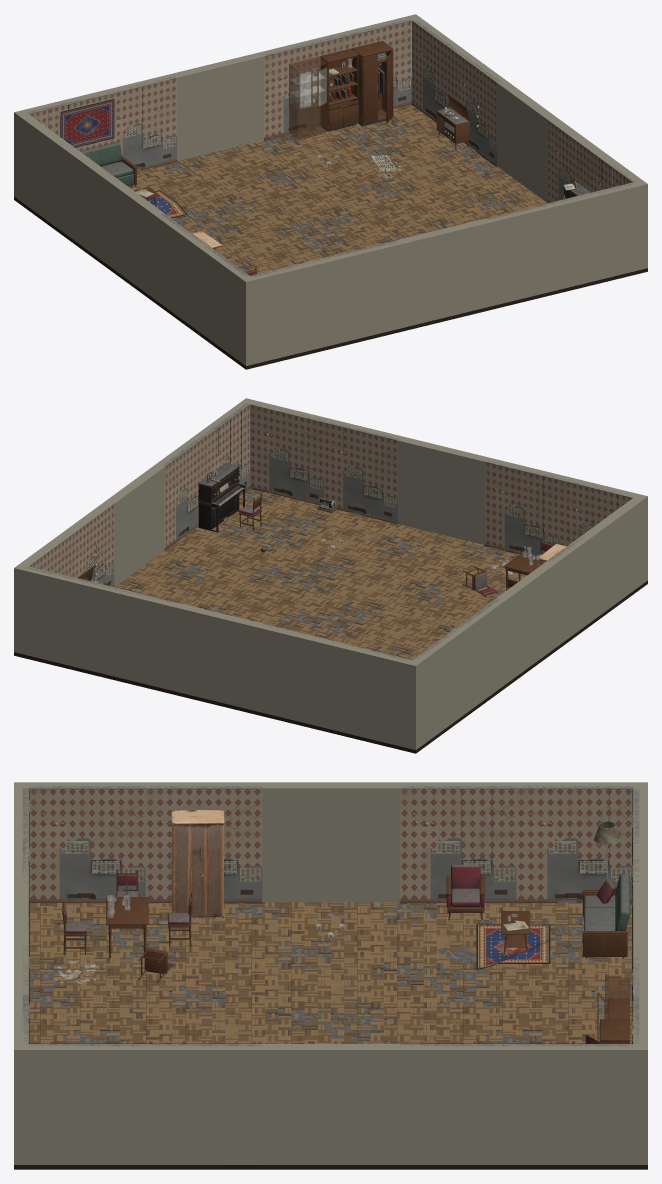
Rendered from room_living_room_decorated_v2.glb.
3 views of the same model, one above another, from view 1: azimuth 30°, elevation 25°; view 2: azimuth 150°, elevation 25°; view 3: azimuth 270°, elevation 25° (orthographic). The views are drawn at different scales.
Parts seen in each view (by area): view 1: Wall_S_A, Wall_S_B, Wall_W_B, Wall_W_A, Plug_S, Plug_N, NoCol_Wallpaper_N1, NoCol_Wallpaper_N2, Plug_W, Plug_E, NoCol_Wallpaper_E3, NoCol_Wallpaper_E2 (+40 smaller); view 2: Wall_N_A, Wall_N_B, Wall_W_A, Wall_W_B, Plug_N, Plug_S, NoCol_Wallpaper_S2, NoCol_Wallpaper_S3, NoCol_Wallpaper_S1, Plug_W, Plug_E, NoCol_Wallpaper_E1 (+35 smaller); view 3: Wall_E_B, Wall_E_A, Plug_W, Plug_E, NoCol_Wallpaper_W0, NoCol_Wallpaper_W2, NoCol_Wallpaper_W3, NoCol_Wallpaper_W1, HideSpot_Wardrobe_1, NoCol_FloorTile_24, NoCol_FloorTile_23, NoCol_FloorTile_21 (+44 smaller).
Boxes of the visible parts, x1,y1,x2,y2 form: Wall_S_A: [240, 240, 403, 365]; Wall_S_B: [487, 180, 647, 306]; Wall_W_B: [19, 114, 113, 262]; Wall_W_A: [155, 214, 249, 361]; Plug_S: [403, 233, 490, 327]; Plug_N: [177, 67, 263, 160]; NoCol_Wallpaper_N1: [101, 76, 176, 170]; NoCol_Wallpaper_N2: [263, 37, 337, 137]; Plug_W: [105, 189, 155, 299]; Plug_E: [497, 93, 547, 202]; NoCol_Wallpaper_E3: [411, 19, 457, 119]; NoCol_Wallpaper_E2: [454, 51, 500, 163]; Wall_N_A: [258, 624, 421, 749]; Wall_N_B: [14, 564, 175, 690]; Wall_W_A: [550, 498, 642, 646]; Wall_W_B: [413, 597, 506, 745]; Plug_N: [171, 617, 258, 711]; Plug_S: [398, 451, 484, 545]; NoCol_Wallpaper_S2: [324, 421, 399, 521]; NoCol_Wallpaper_S3: [250, 403, 325, 503]; NoCol_Wallpaper_S1: [485, 460, 560, 555]; Plug_W: [506, 573, 556, 683]; Plug_E: [114, 477, 164, 586]; NoCol_Wallpaper_E1: [162, 435, 207, 547]; Wall_E_B: [399, 1044, 633, 1164]; Wall_E_A: [28, 1044, 262, 1164]; Plug_W: [262, 802, 399, 903]; Plug_E: [262, 1064, 399, 1164]; NoCol_Wallpaper_W0: [28, 786, 145, 899]; NoCol_Wallpaper_W2: [399, 786, 516, 899]; NoCol_Wallpaper_W3: [516, 786, 633, 902]; NoCol_Wallpaper_W1: [145, 786, 262, 899]; HideSpot_Wardrobe_1: [171, 810, 224, 917]; NoCol_FloorTile_24: [436, 985, 542, 1030]; NoCol_FloorTile_23: [331, 985, 436, 1030]; NoCol_FloorTile_21: [119, 985, 225, 1030].
Size of the model in its own units: 12 by 2.5 by 12.
Materials: 39 (26 with a texture image).
